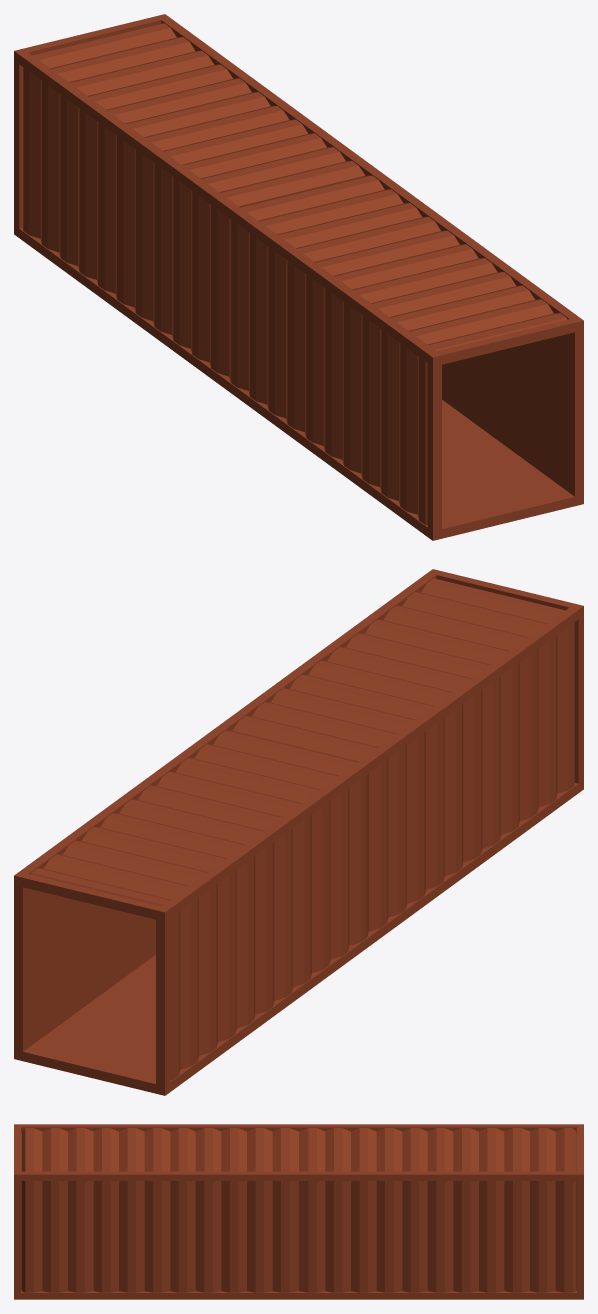
Rendered from SM_IndustrialProps_ShippingContainer_01.fbx.
3 renders of one model, top to bottom at view 1: azimuth 30°, elevation 25°; view 2: azimuth 150°, elevation 25°; view 3: azimuth 270°, elevation 25°, orthographic. The views are drawn at different scales.
Parts seen in each view (by area): view 1: SM_IndustrialProps_ShippingContainer_01; view 2: SM_IndustrialProps_ShippingContainer_01; view 3: SM_IndustrialProps_ShippingContainer_01.
Boxes of the visible parts, x1=… form: SM_IndustrialProps_ShippingContainer_01: x1=14, y1=14, x2=583, y2=540; SM_IndustrialProps_ShippingContainer_01: x1=14, y1=569, x2=583, y2=1095; SM_IndustrialProps_ShippingContainer_01: x1=14, y1=1124, x2=583, y2=1299.
Bounding box in the file's own units: 2.5 × 2.9 × 12.
